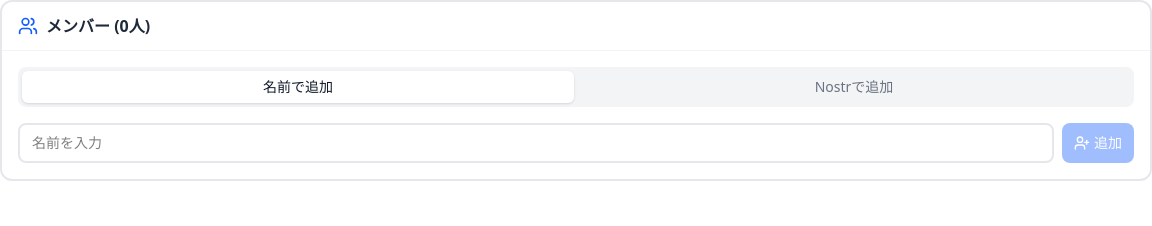
it: MemberList - npubバリデーション › 不正なnpub形式の場合は追加ボタンがdisabledになりエラーメッセージが表示される
This screenshot has width=1152, height=226.
Click the button "Nostrで追加" at (854, 87), box [578,71,1130,103]
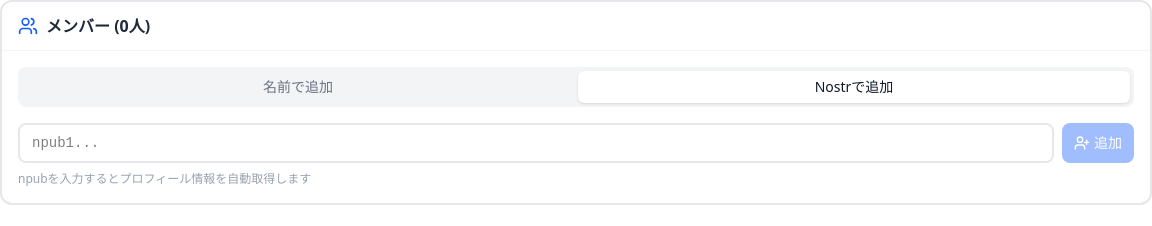
Type "invalid-format" into the field with placeholder "npub1..." at (536, 143), box [18,123,1054,163]
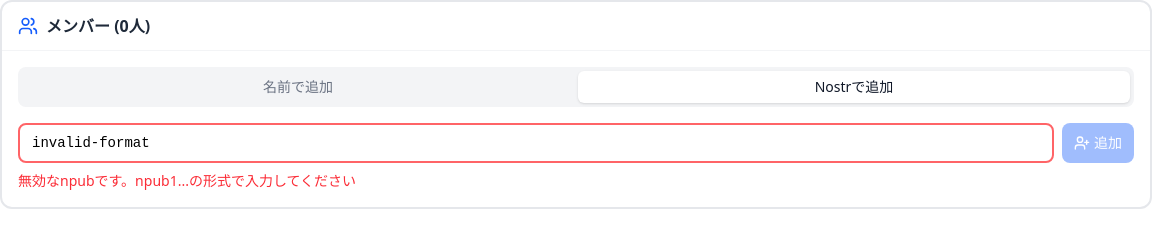
Expected: the button "追加" is disabled, [1062,123,1134,163]
Expected: the message reads "無効なnpubです。npub1...の形式で入力してください", [18,171,356,190]
